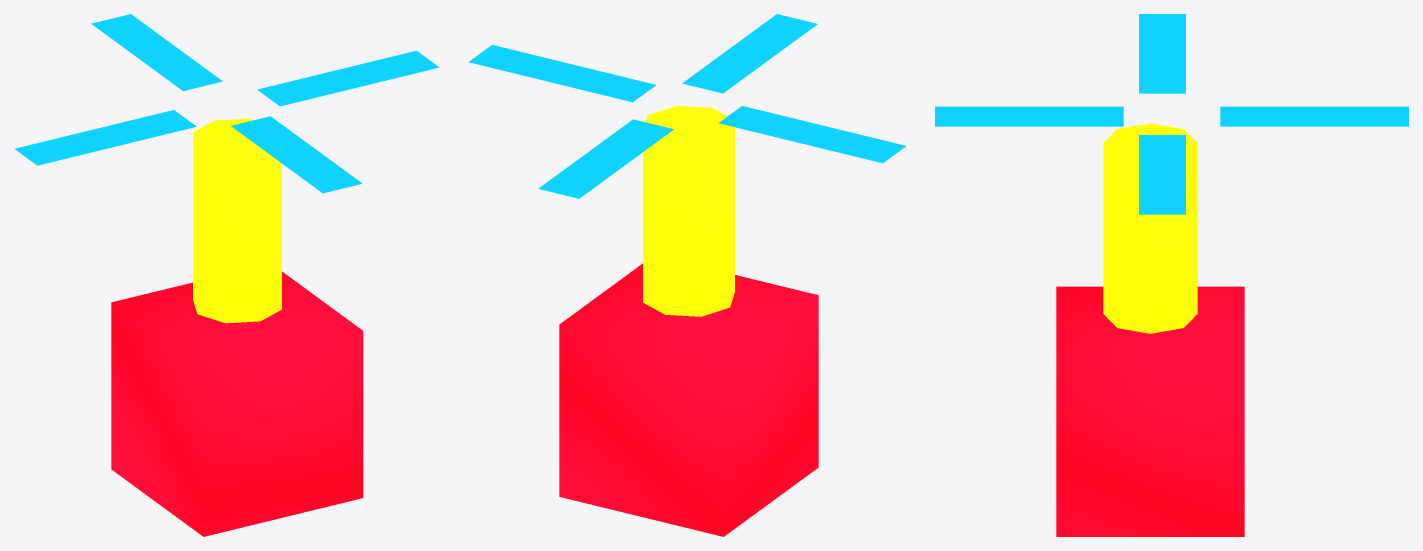
File: test_doron.fbx
3 renders of one model, left to right at view 1: azimuth 30°, elevation 25°; view 2: azimuth 150°, elevation 25°; view 3: azimuth 270°, elevation 25°, orthographic. The views are drawn at different scales.
Visible parts, largest first — view 1: body, neck, wing; view 2: body, neck, wing; view 3: body, wing, neck.
Boxes of the visible parts, x1,y1,x2,y2 form: body: (111, 271, 363, 536); neck: (193, 118, 281, 323); wing: (14, 14, 439, 193); body: (559, 263, 818, 536); neck: (643, 106, 734, 316); wing: (468, 14, 905, 198); body: (1056, 286, 1244, 536); wing: (935, 14, 1408, 214); neck: (1103, 123, 1197, 333).
Bounding box in the file's own units: 5.04 × 4.46 × 5.03.
